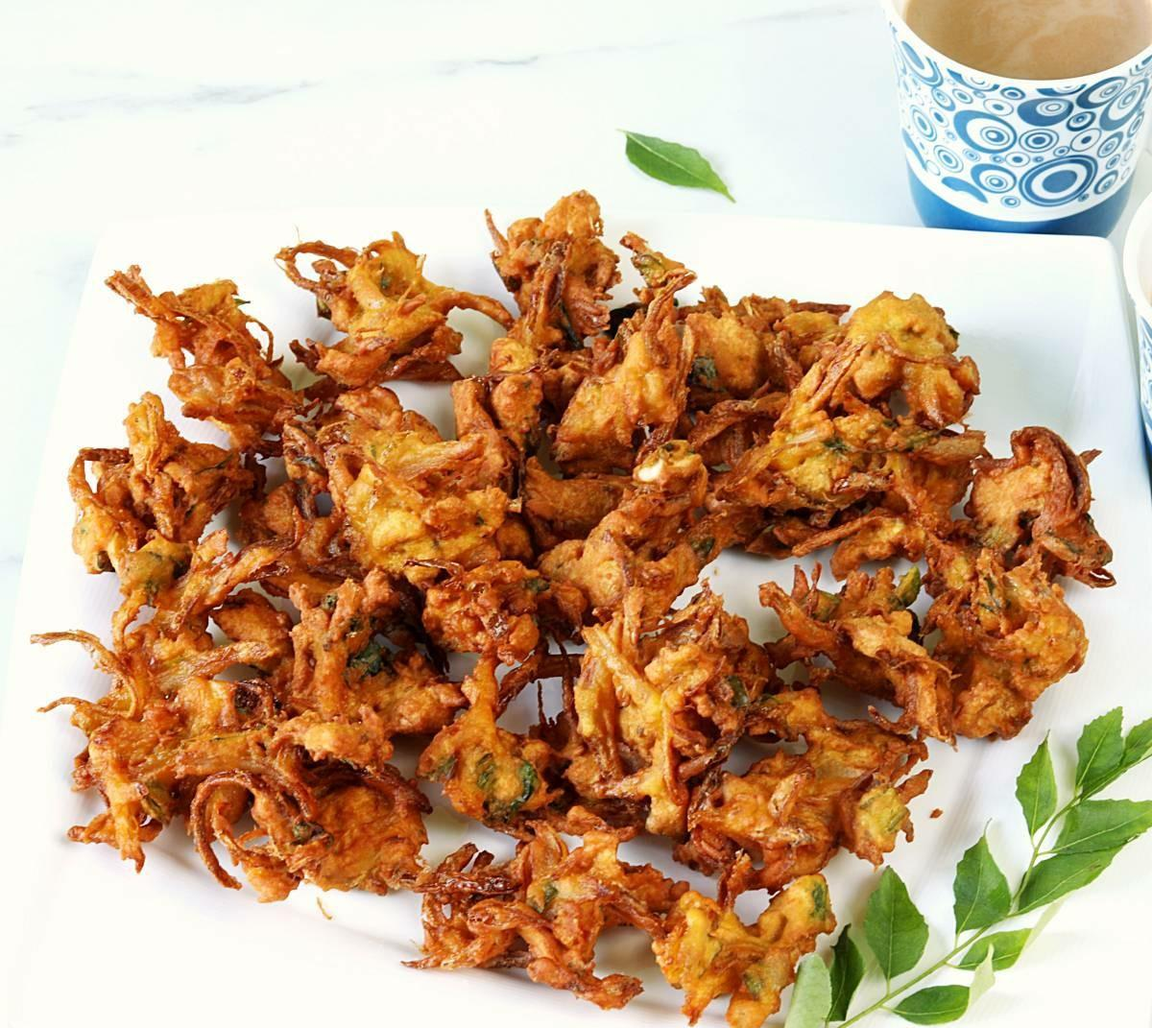Chai: (903, 0, 1152, 82)
OnionPakoda: (31, 194, 1110, 1024)
